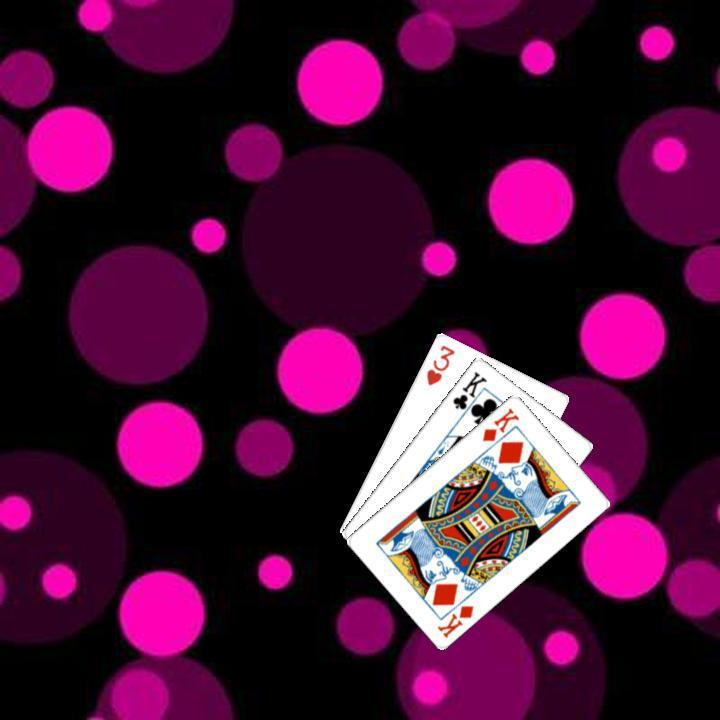3: (422, 340, 457, 387)
K: (448, 367, 489, 420), (477, 403, 521, 443), (433, 600, 476, 640)
